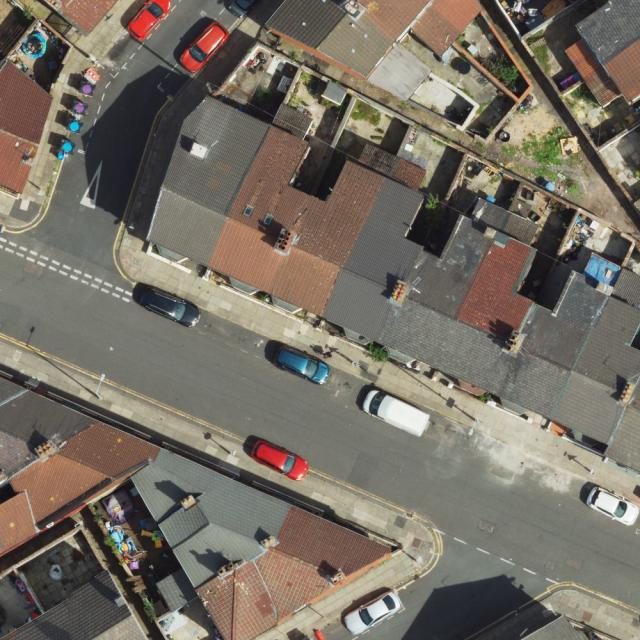roof: (147, 92, 640, 475), (0, 374, 399, 639), (265, 0, 483, 99), (0, 566, 148, 640), (563, 0, 640, 106), (0, 54, 53, 192), (32, 0, 117, 34)
skylight: (263, 213, 276, 229), (243, 203, 256, 218)
